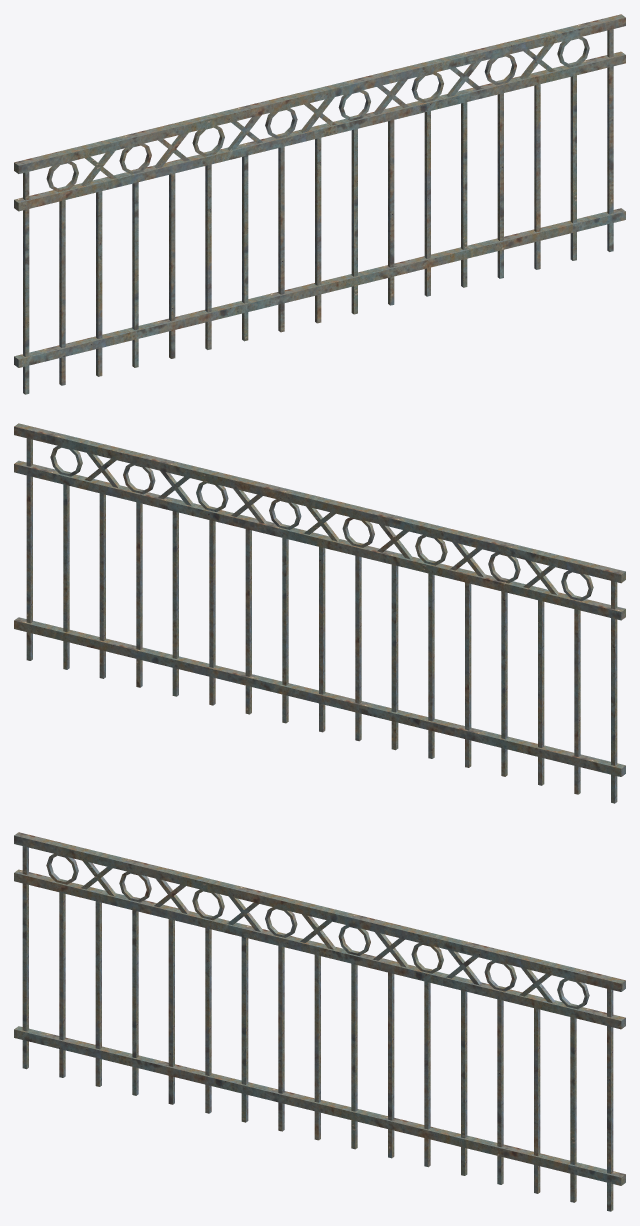
The model's file is fence05.FBX.
The picture shows the model from 3 angles, top to bottom: view 1: azimuth 30°, elevation 25°; view 2: azimuth 150°, elevation 25°; view 3: azimuth 330°, elevation 25°; orthographic projection.
Parts seen in each view (by area): view 1: metal_fence_large_ring_cross; view 2: metal_fence_large_ring_cross; view 3: metal_fence_large_ring_cross.
Boxes of the visible parts, bbox=[...] form: metal_fence_large_ring_cross: bbox=[14, 14, 625, 394]; metal_fence_large_ring_cross: bbox=[14, 423, 625, 803]; metal_fence_large_ring_cross: bbox=[14, 832, 625, 1211].
Bounding box in the file's own units: 476 × 173 × 6.31.
